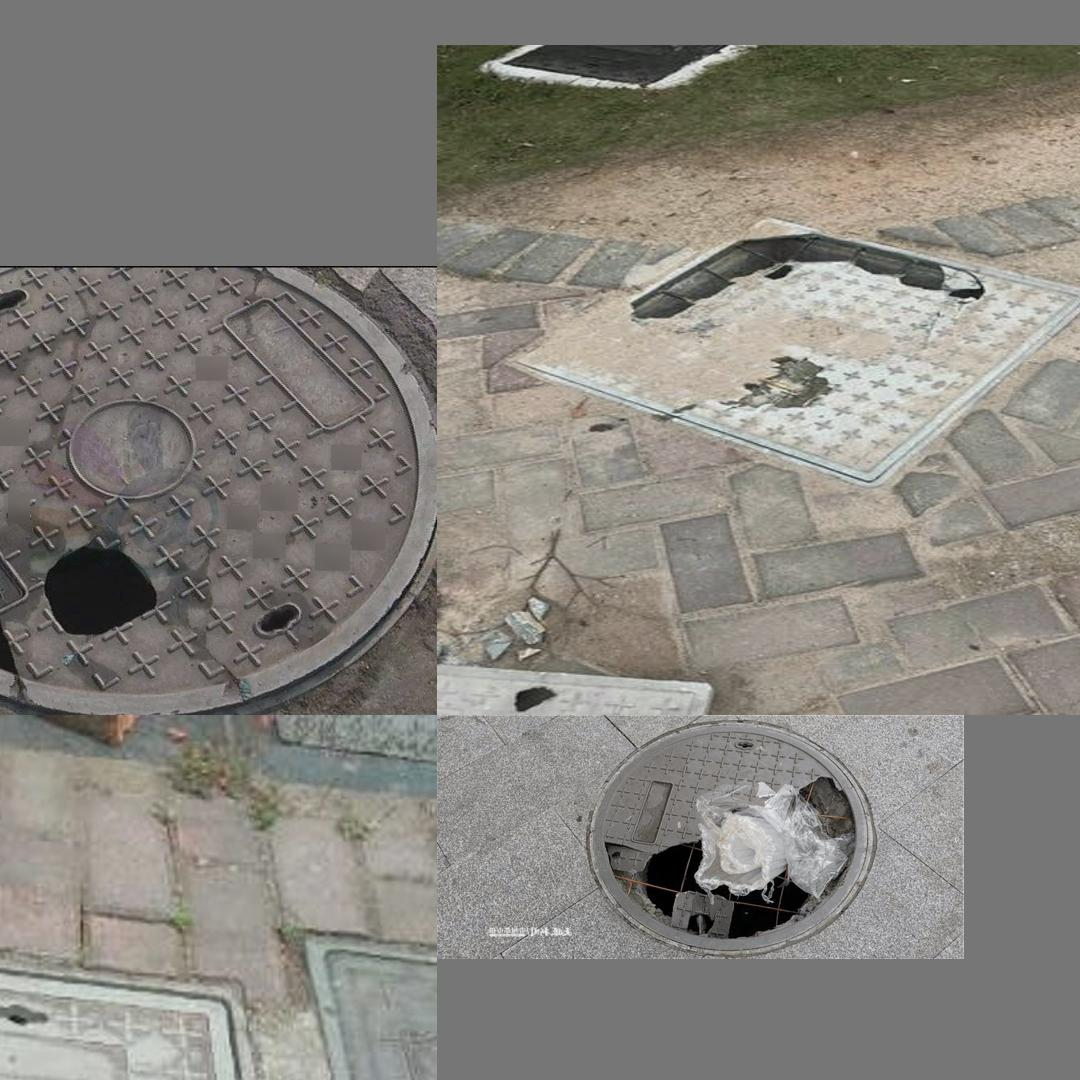broke: (0, 266, 419, 700), (523, 201, 1080, 499), (580, 719, 882, 951), (0, 928, 367, 1080)
